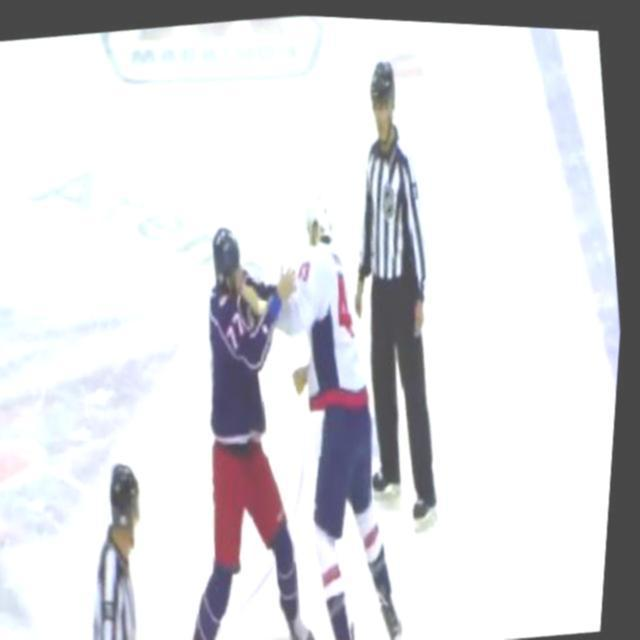fight: (162, 169, 436, 640)
